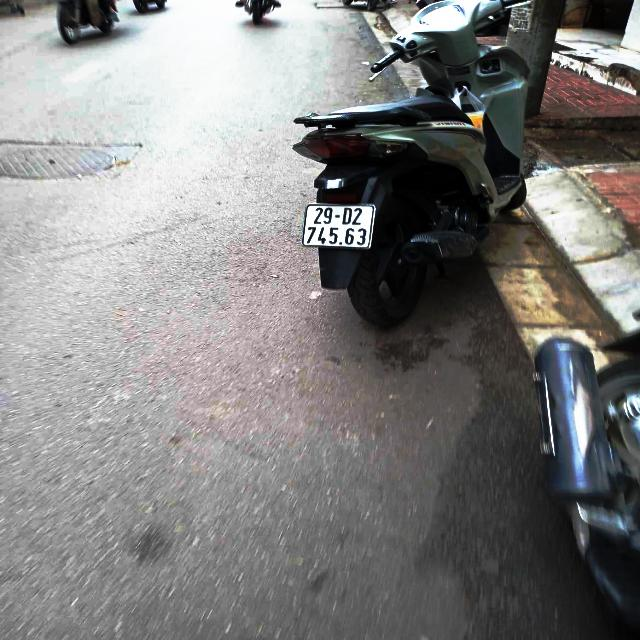license_plate: (294, 202, 381, 256)
